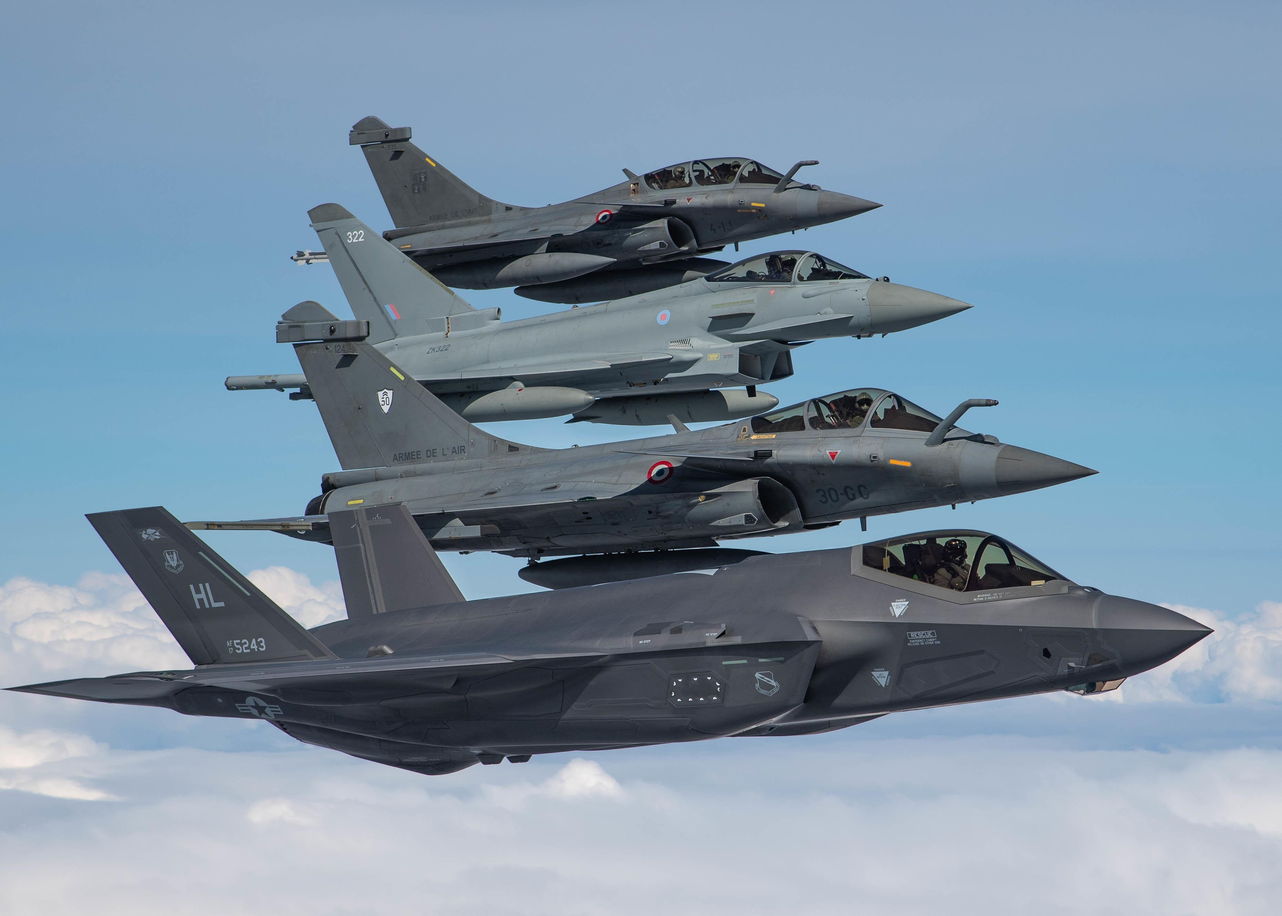aircraft: (33, 183, 1245, 761), (22, 485, 1213, 762), (343, 116, 888, 298)
